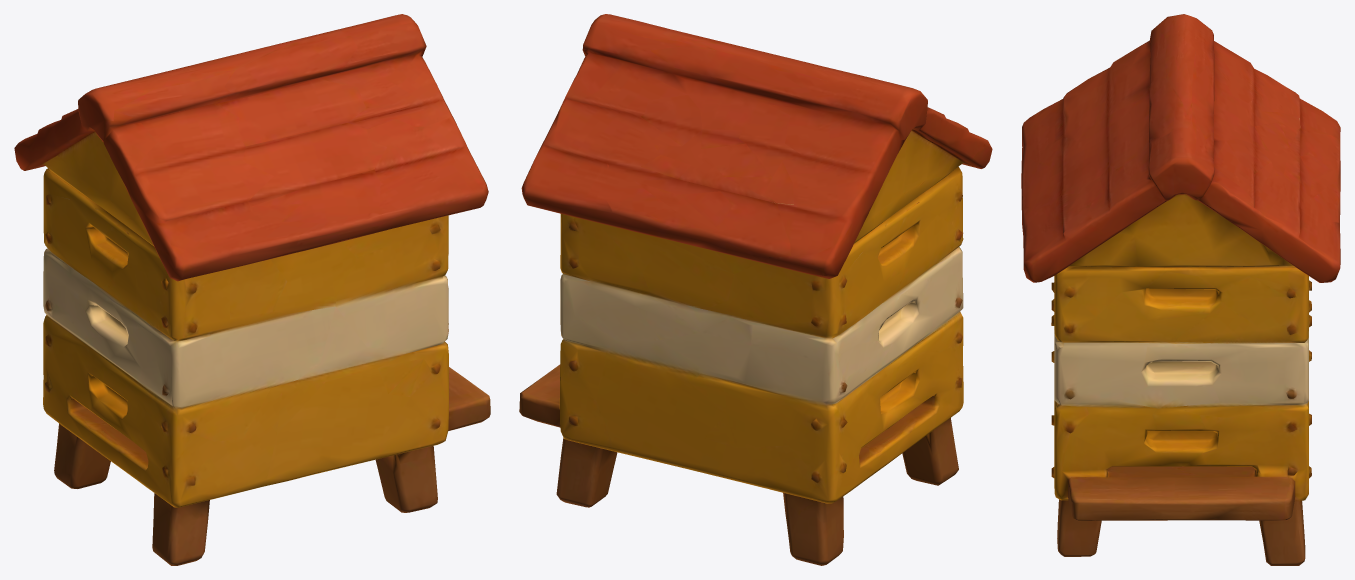
Rendered from beehive.glb.
3 views of the same model, side by side, from view 1: azimuth 30°, elevation 25°; view 2: azimuth 150°, elevation 25°; view 3: azimuth 270°, elevation 25° (orthographic). The views are drawn at different scales.
Parts seen in each view (by area): view 1: tripo_node_db7495d6-fafc-4781-891e-c67bb44bf6c1; view 2: tripo_node_db7495d6-fafc-4781-891e-c67bb44bf6c1; view 3: tripo_node_db7495d6-fafc-4781-891e-c67bb44bf6c1.
Part boxes in pixels (x1,y1,x2,y2): tripo_node_db7495d6-fafc-4781-891e-c67bb44bf6c1: [14, 14, 490, 565]; tripo_node_db7495d6-fafc-4781-891e-c67bb44bf6c1: [519, 14, 992, 565]; tripo_node_db7495d6-fafc-4781-891e-c67bb44bf6c1: [1021, 14, 1340, 565].
Bounding box in the file's own units: 0.8201 × 1 × 0.6905.
1 material, 1 textured.
